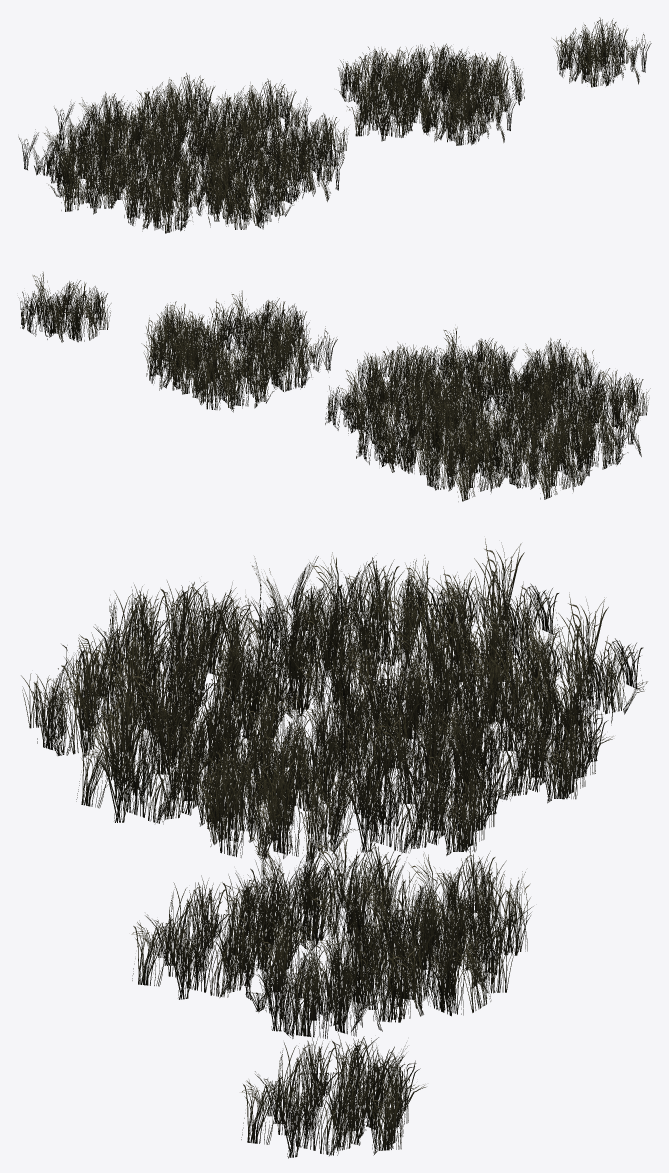
3 renders of one model, top to bottom at view 1: azimuth 30°, elevation 25°; view 2: azimuth 150°, elevation 25°; view 3: azimuth 270°, elevation 25°, orthographic. The views are drawn at different scales.
Visible parts, largest first — view 1: A01, A02, A03; view 2: A01, A02, A03; view 3: A01, A02, A03.
Part boxes in pixels (box(x1,y1,x2,y2)): A01: box(18, 73, 348, 233); A02: box(336, 42, 524, 145); A03: box(552, 17, 651, 87); A01: box(325, 327, 650, 501); A02: box(141, 290, 337, 412); A03: box(18, 272, 111, 342); A01: box(21, 538, 647, 863); A02: box(131, 821, 533, 1038); A03: box(241, 1032, 425, 1158).
Bounding box in the file's own units: 16.01 × 1.16 × 7.63.
Materials: 1 (1 with a texture image).
